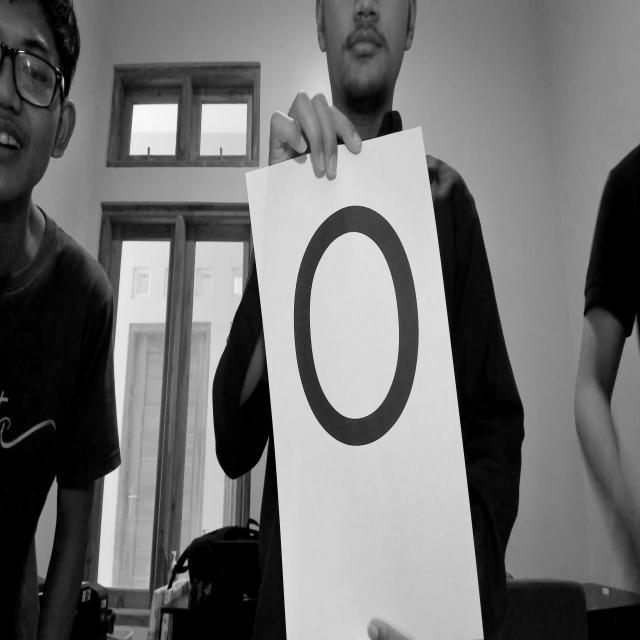o: (273, 179, 441, 474)
